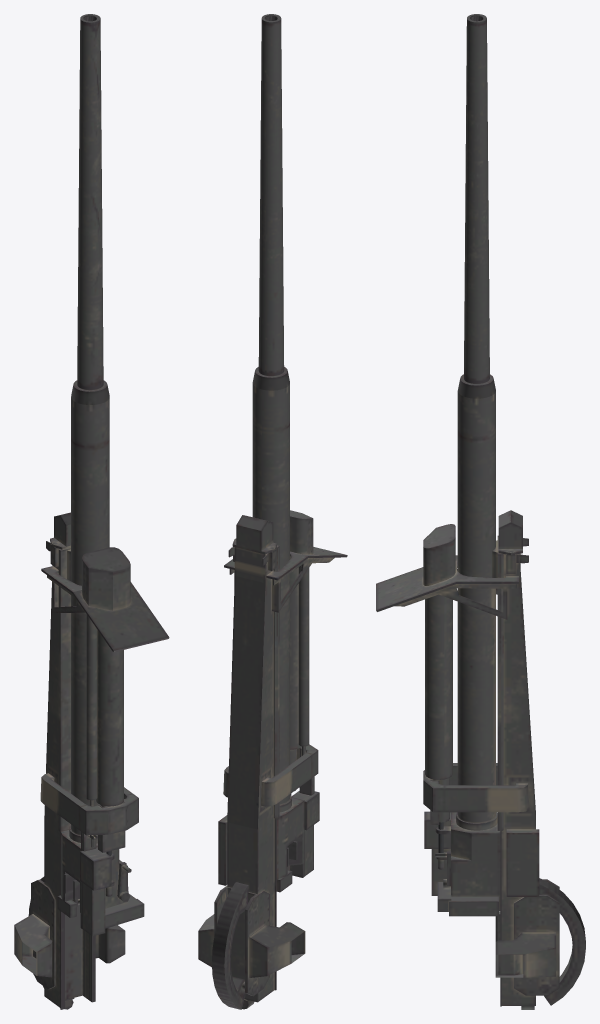
The model's file is Gun_03.glb.
3 renders of one model, left to right at view 1: azimuth 30°, elevation 25°; view 2: azimuth 150°, elevation 25°; view 3: azimuth 270°, elevation 25°, orthographic. The views are drawn at different scales.
Visible parts, largest first — view 1: set_0_group_0; view 2: set_0_group_0; view 3: set_0_group_0.
Part boxes in pixels (left/top/right/bottom): set_0_group_0: left=14, top=14, right=169, bottom=1009; set_0_group_0: left=198, top=14, right=347, bottom=1009; set_0_group_0: left=376, top=14, right=585, bottom=1009.
Bounding box in the file's own units: 0.6807 × 7.37 × 1.41.
Materials: 1 (1 with a texture image).
